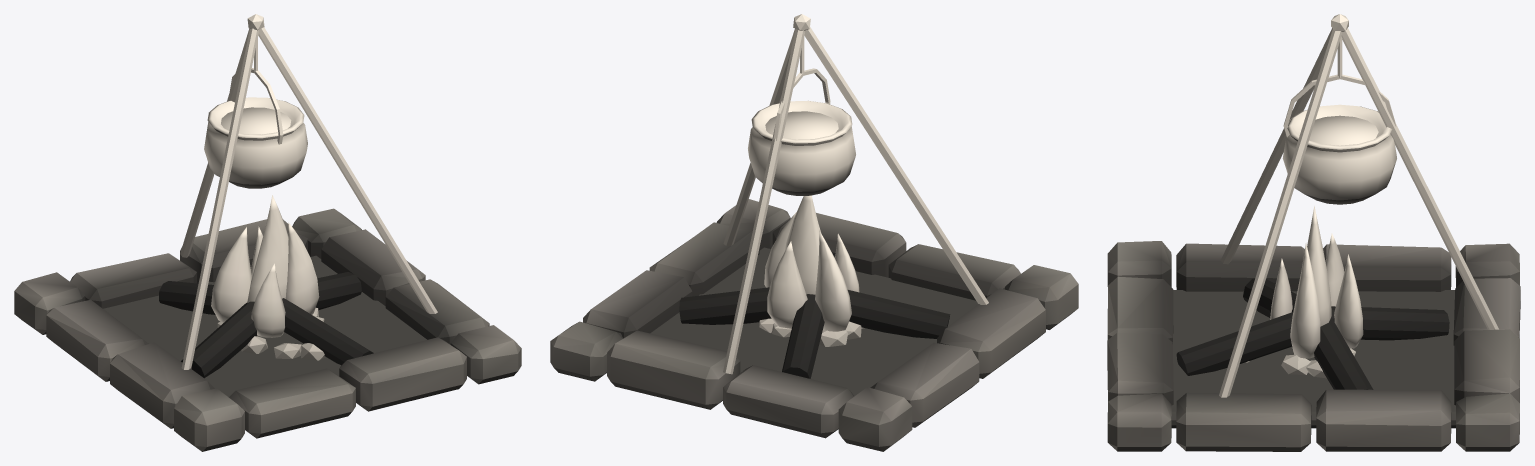
File: SM_VKI_Prop_Hearth_Open.fbx
The picture shows the model from 3 angles, left to right: view 1: azimuth 30°, elevation 25°; view 2: azimuth 150°, elevation 25°; view 3: azimuth 270°, elevation 25°; orthographic projection. The views are drawn at different scales.
Visible parts, largest first — view 1: SM_VKI_Prop_Hearth_Open.001; view 2: SM_VKI_Prop_Hearth_Open.001; view 3: SM_VKI_Prop_Hearth_Open.001.
Part boxes in pixels (left/top/right/bottom): SM_VKI_Prop_Hearth_Open.001: left=14, top=14, right=521, bottom=451; SM_VKI_Prop_Hearth_Open.001: left=550, top=14, right=1078, bottom=451; SM_VKI_Prop_Hearth_Open.001: left=1107, top=14, right=1520, bottom=451.
Bounding box in the file's own units: 1.26 × 1.2 × 1.26.
